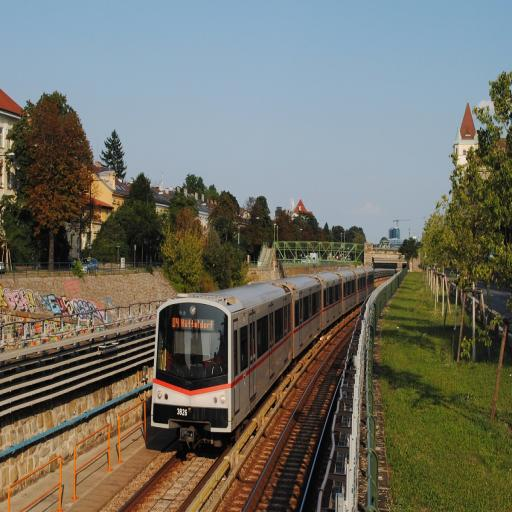V-Wagen: (148, 261, 376, 437)
